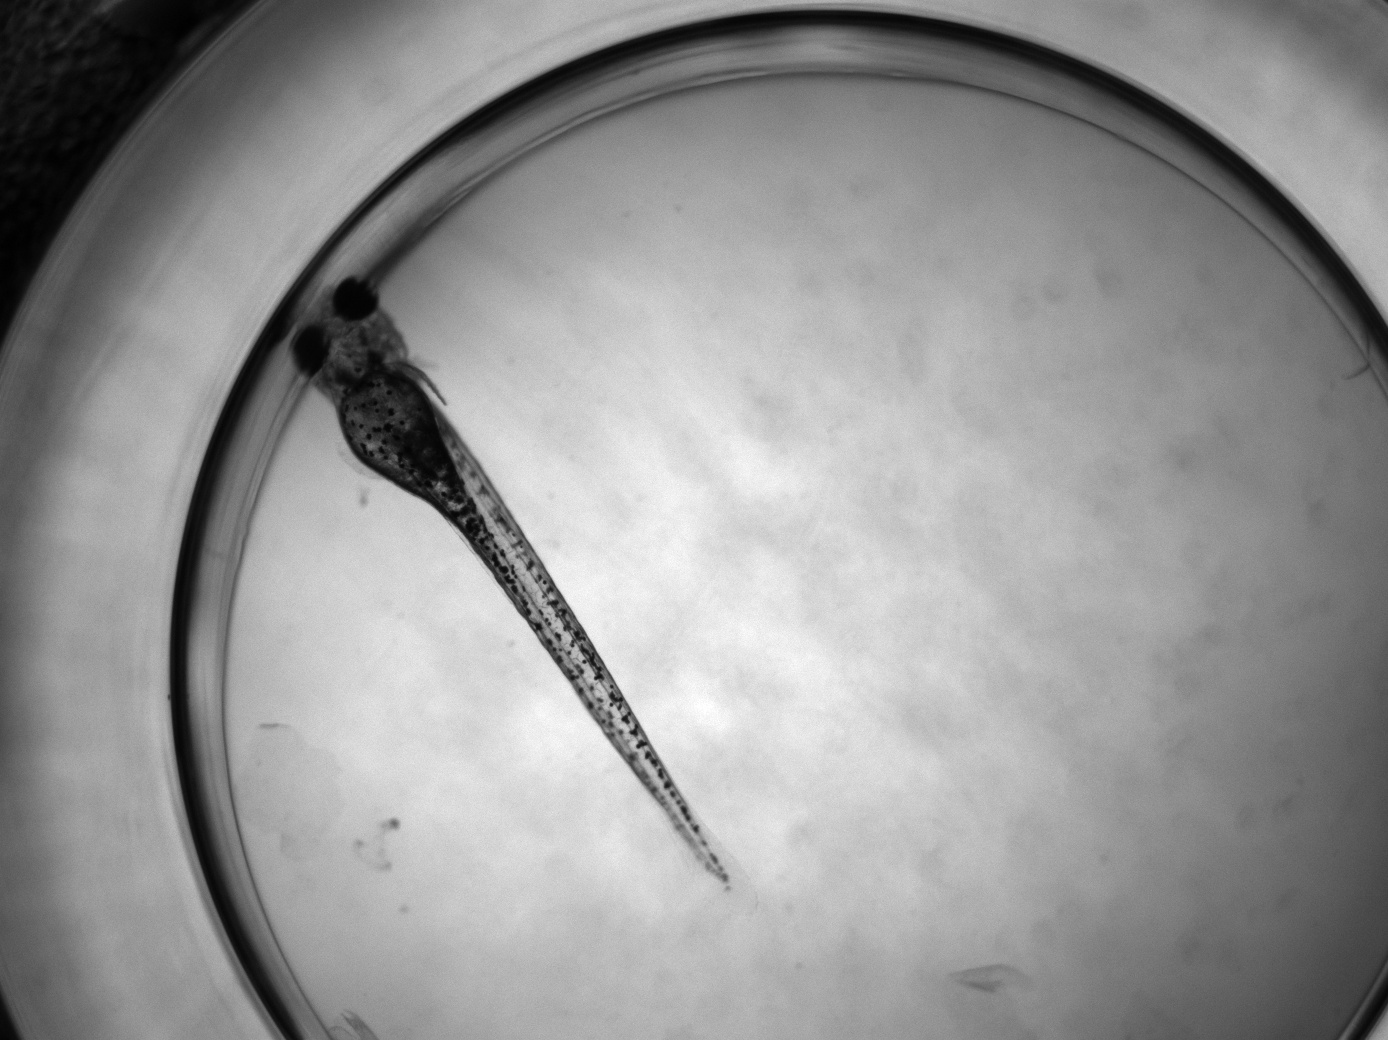embryo: (289, 277, 729, 884)
eye: (332, 277, 378, 322), (290, 326, 329, 375)
yolksac: (336, 371, 444, 482)
